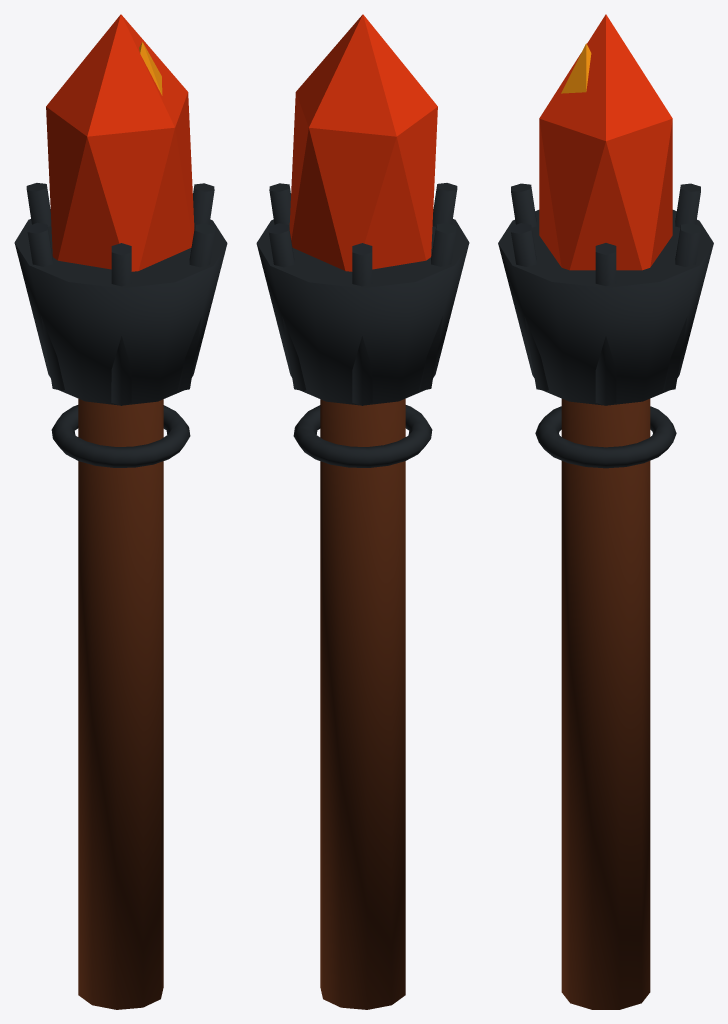
The model's file is torch.obj.
3 renders of one model, left to right at view 1: azimuth 30°, elevation 25°; view 2: azimuth 150°, elevation 25°; view 3: azimuth 270°, elevation 25°, orthographic.
Parts seen in each view (by area): view 1: torch; view 2: torch; view 3: torch.
Part boxes in pixels (box(x1,y1,x2,y2)): torch: box(14, 14, 227, 1009); torch: box(256, 14, 469, 1009); torch: box(498, 14, 713, 1009).
Bounding box in the file's own units: 0.2 × 1 × 0.2.
